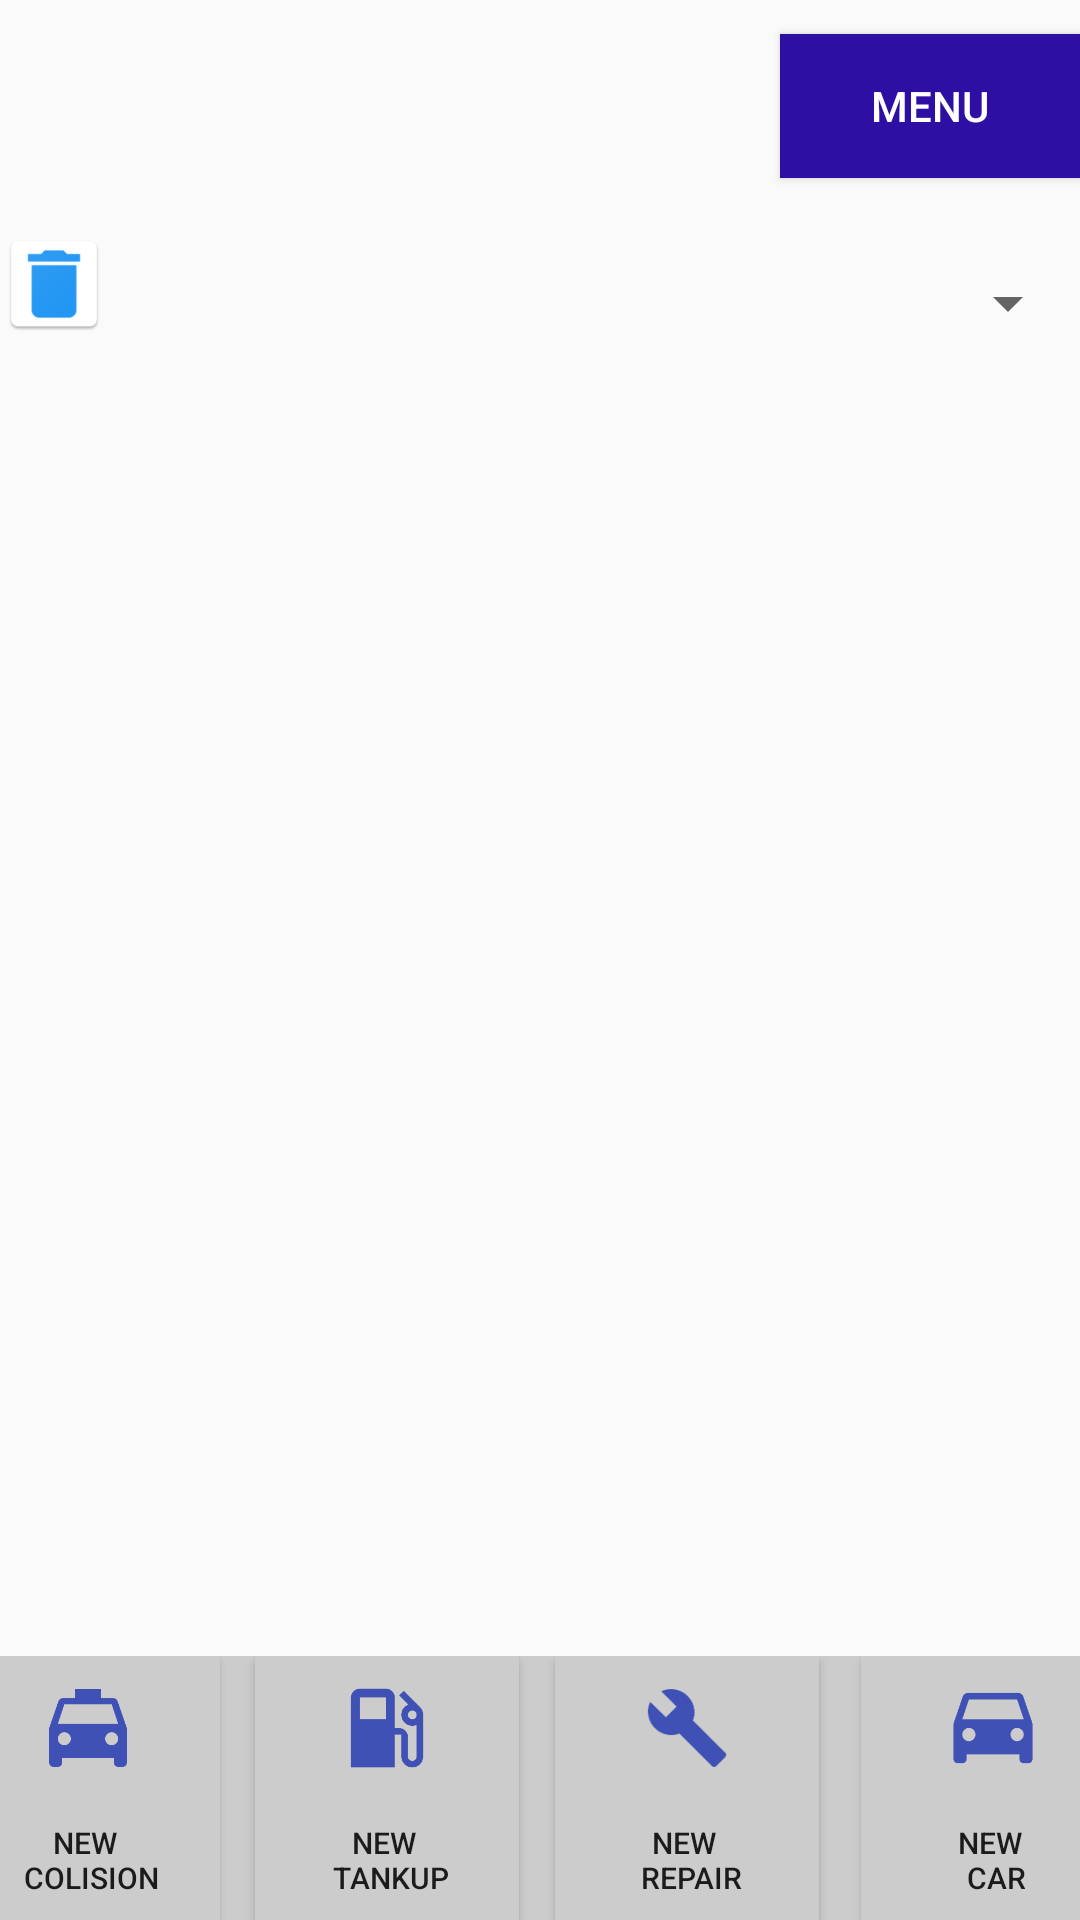

Screen size 1080 × 1920. Icon name, then its box in pixels as (x1, y1, x2, y2):
trash: (11, 250, 98, 329)
